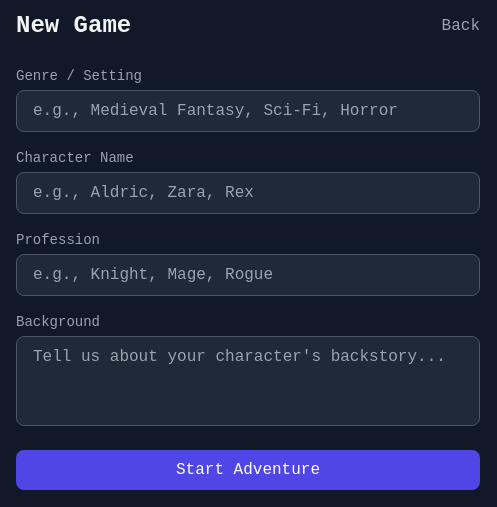
Test case: NewGamePage › shows loading state while creating
Type "Fantasy" into the field labelled "Genre / Setting" at (248, 111), box 16,90 -> 480,132
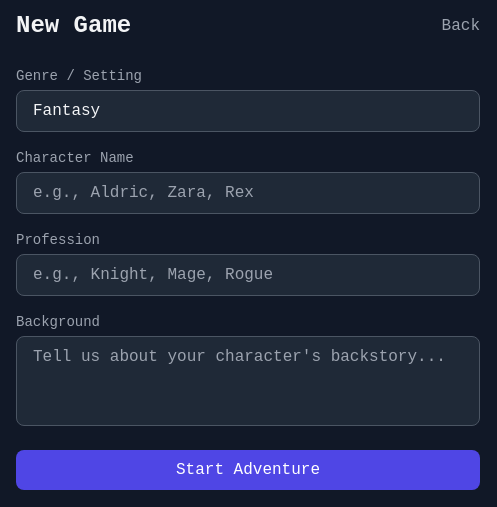
Type "A" into the field labelled "Character Name" at (248, 193), box 16,172 -> 480,214
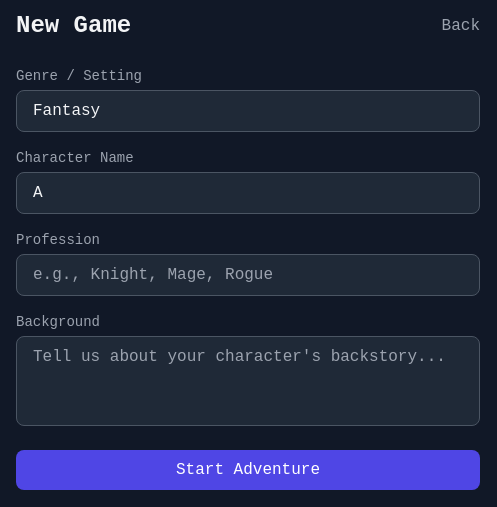
Type "B" into the field labelled "Profession" at (248, 275), box 16,254 -> 480,296
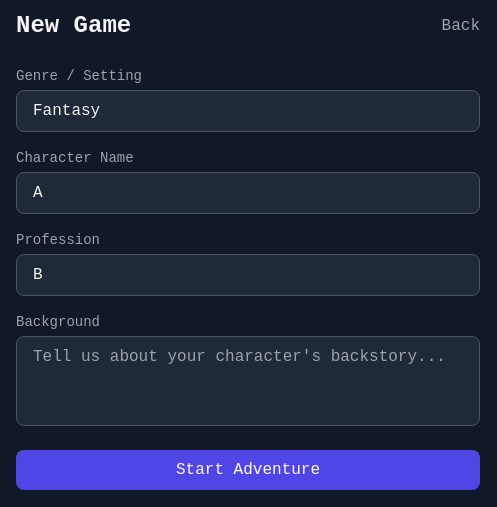
Type "C" into the text box labelled "Background" at (248, 381), box 16,336 -> 480,426
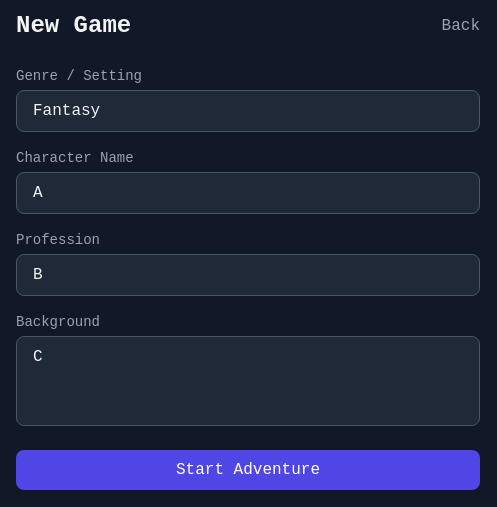
Click the button "Start Adventure" at (248, 470), box 16,450 -> 480,490
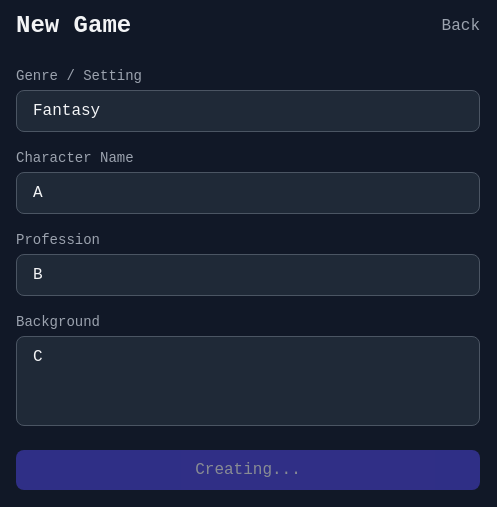
Expected: the button "Creating..." is shown, 16,450 -> 480,490
